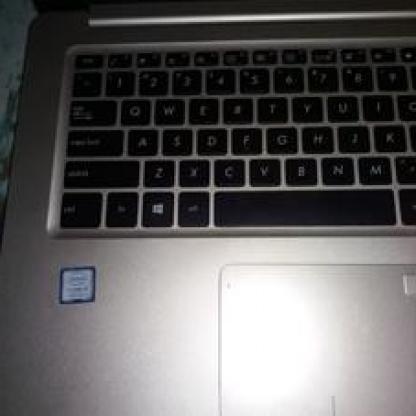keyboard: (9, 17, 414, 268)
